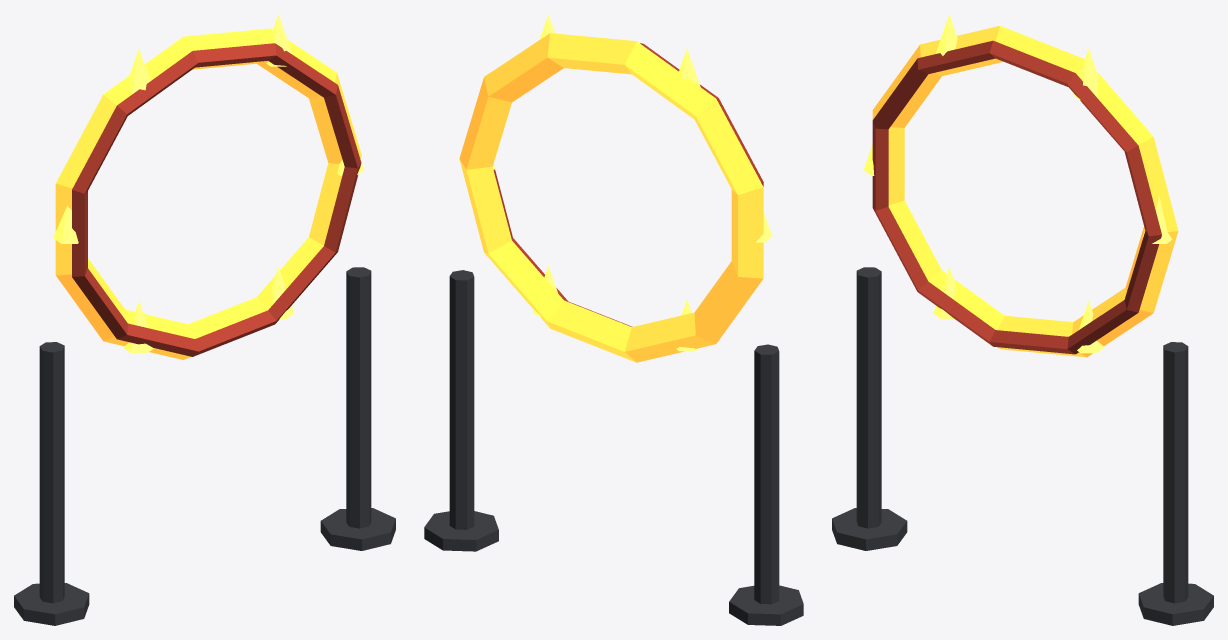
Rendered from hoop-lod1.glb.
3 views of the same model, side by side, from view 1: azimuth 30°, elevation 25°; view 2: azimuth 150°, elevation 25°; view 3: azimuth 330°, elevation 25° (orthographic).
Visible parts, largest first — view 1: hoop; view 2: hoop; view 3: hoop.
Part boxes in pixels (x1,y1,x2,y2): hoop: (14, 14, 395, 625); hoop: (424, 14, 803, 625); hoop: (832, 14, 1213, 625).
Size of the model in its own units: 1.33 by 1.86 by 0.2281.
